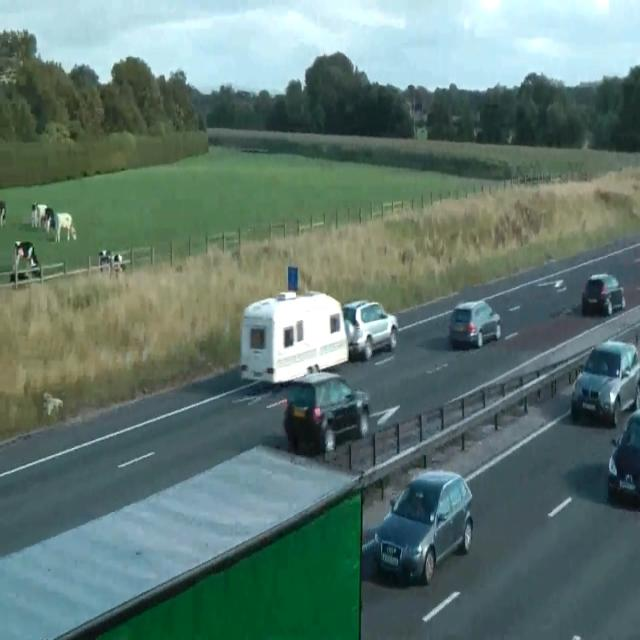bus: (374, 468, 474, 585), (608, 409, 640, 502), (447, 298, 501, 348), (582, 272, 626, 316), (98, 249, 125, 273), (41, 391, 63, 420)
car: (30, 202, 76, 242), (10, 239, 40, 281), (53, 210, 77, 242), (31, 202, 51, 231), (43, 206, 55, 233), (0, 200, 6, 228)
jeep: (283, 370, 369, 454), (570, 338, 639, 426), (342, 298, 398, 360)
minibus: (239, 288, 349, 388)
